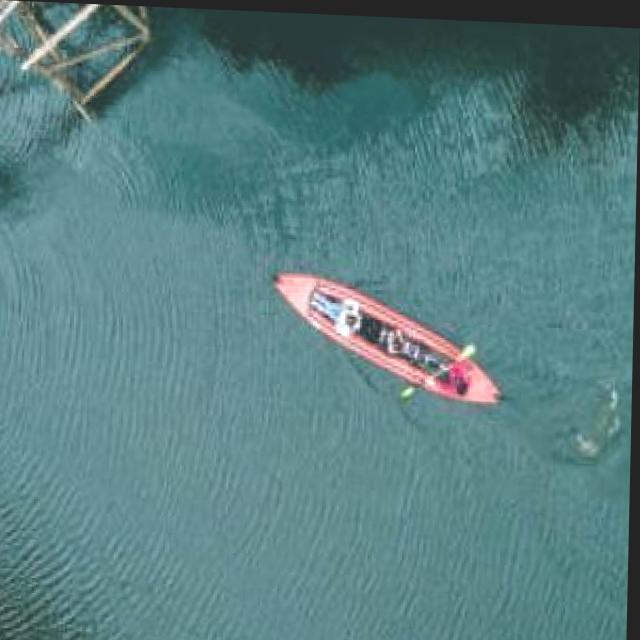kayak: (275, 271, 501, 400)
